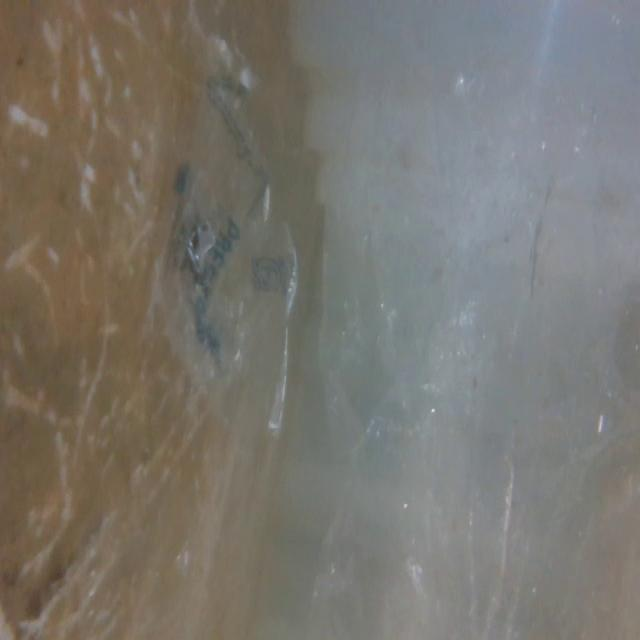plastic bags: (328, 55, 548, 632), (154, 33, 310, 484)
